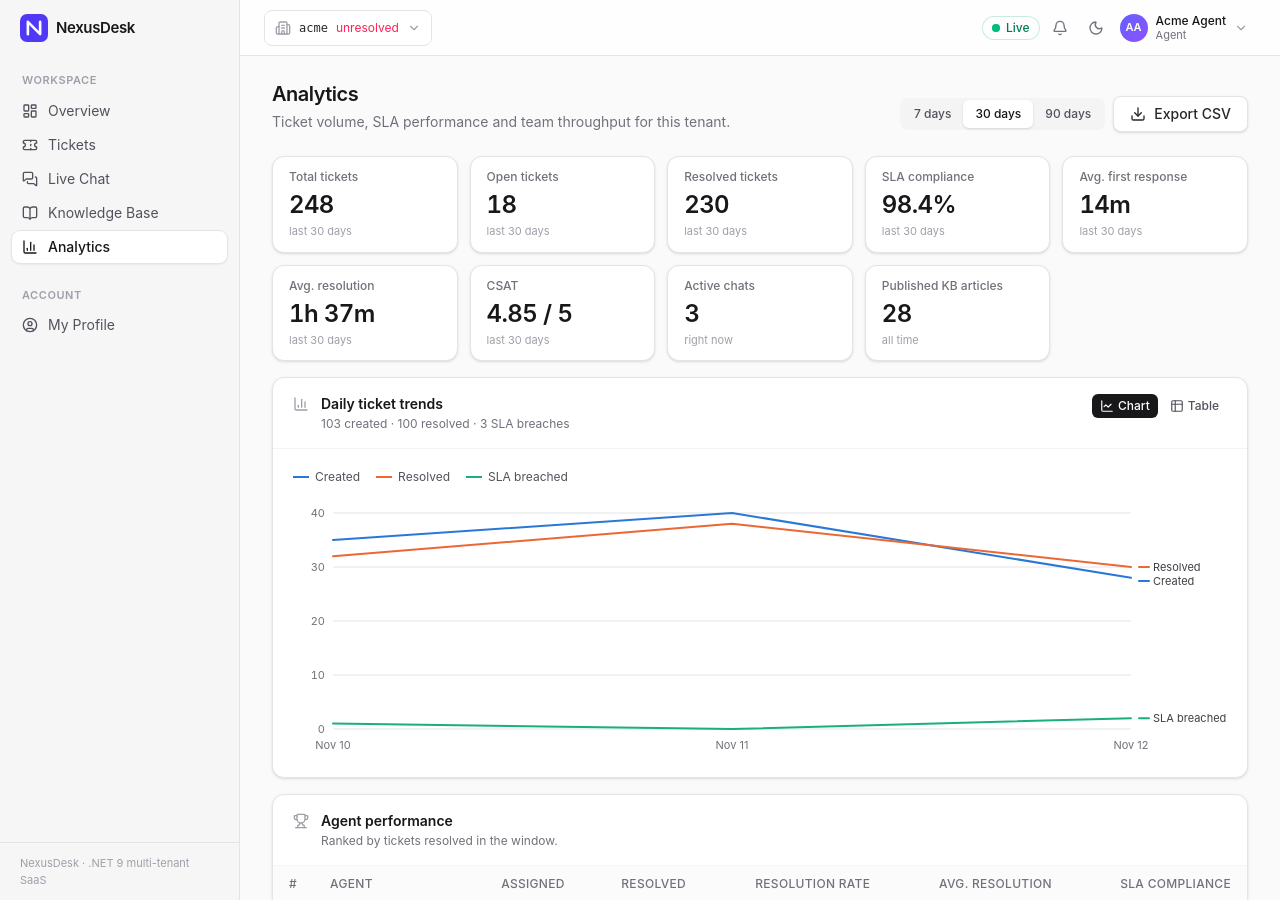
Test: Analytics dashboard › draws the daily trend chart with legend, crosshair tooltip and a table view
This screenshot has width=1280, height=900.
Expected: the text "103 created · 100 resolved · 3 SLA breaches" is shown, [321,416,570,432]
Expected: the list item "Created" is shown, [293,469,360,485]
# Keyboard crosshair: → steps to the first day.
Press ArrowRight in the field labelled "Chart hover area", box [323,513,1141,729]
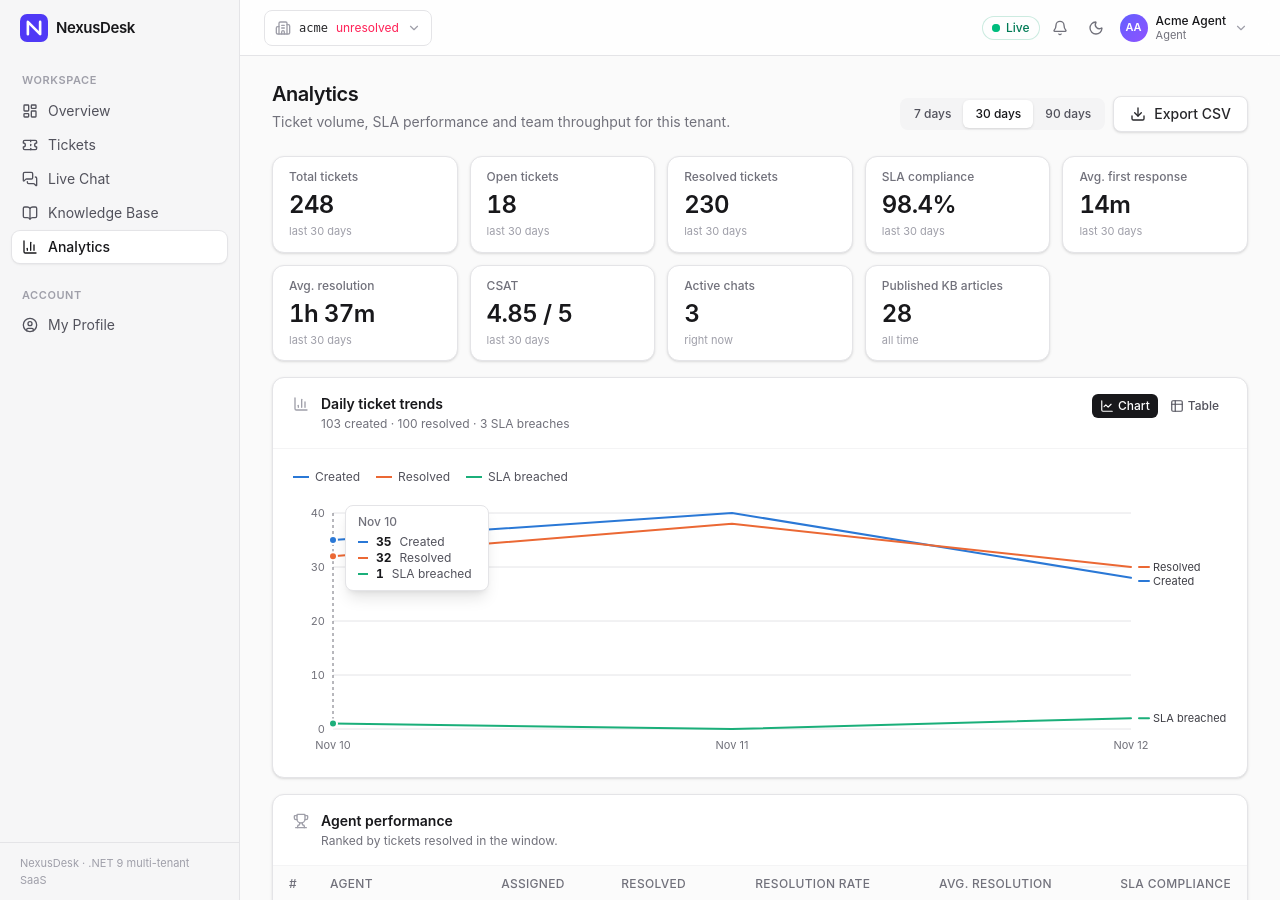
Press ArrowRight in the field labelled "Chart hover area", box [323,513,1141,729]
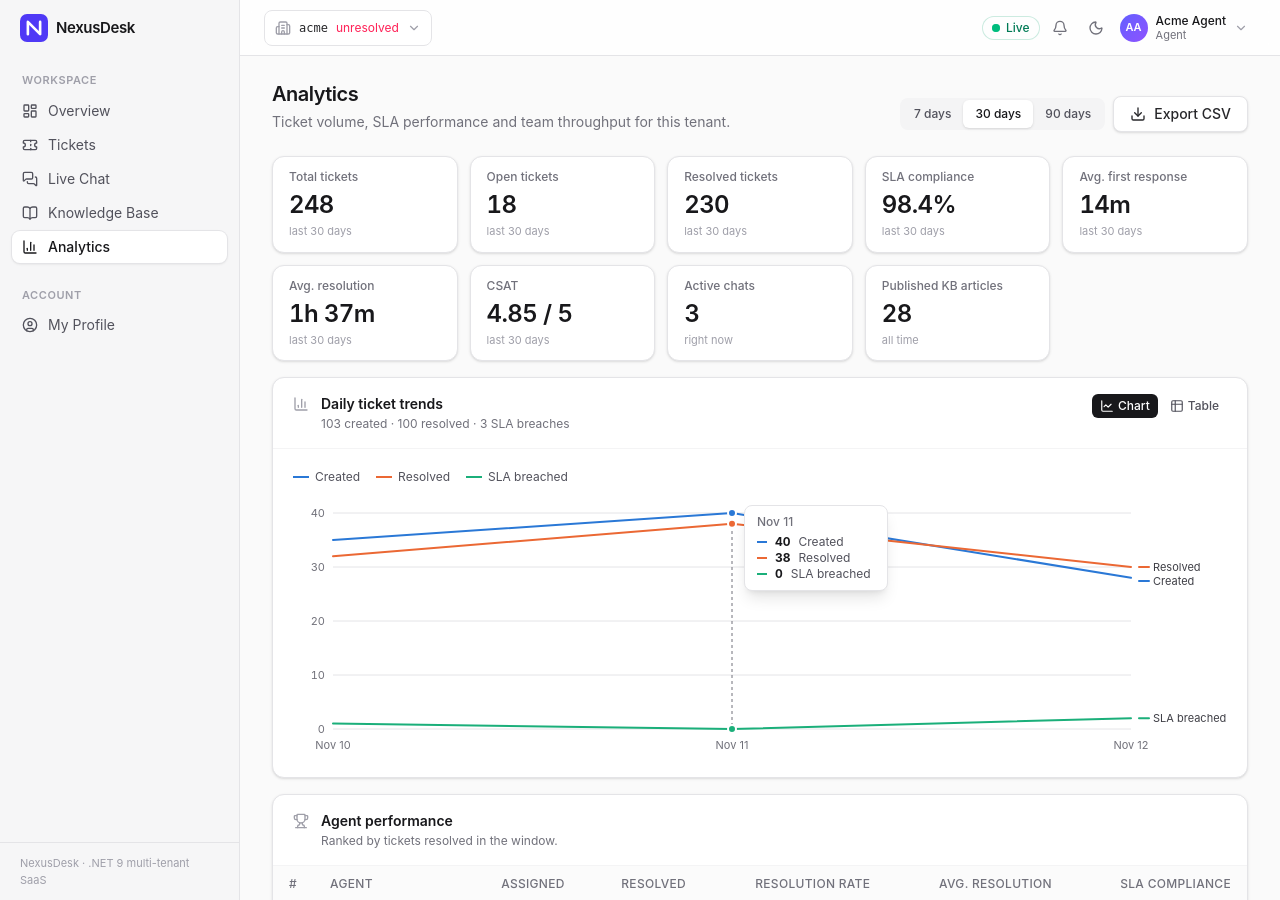
Now the message with test id "trend-tooltip" shows "Nov 11", box [757,514,793,529]
Now the message with test id "trend-tooltip" shows "40 Created", box [744,505,888,591]
Now the message with test id "trend-tooltip" shows "38 Resolved", box [744,505,888,591]
Click the button "Table": (1194, 406) [1162,394,1227,418]
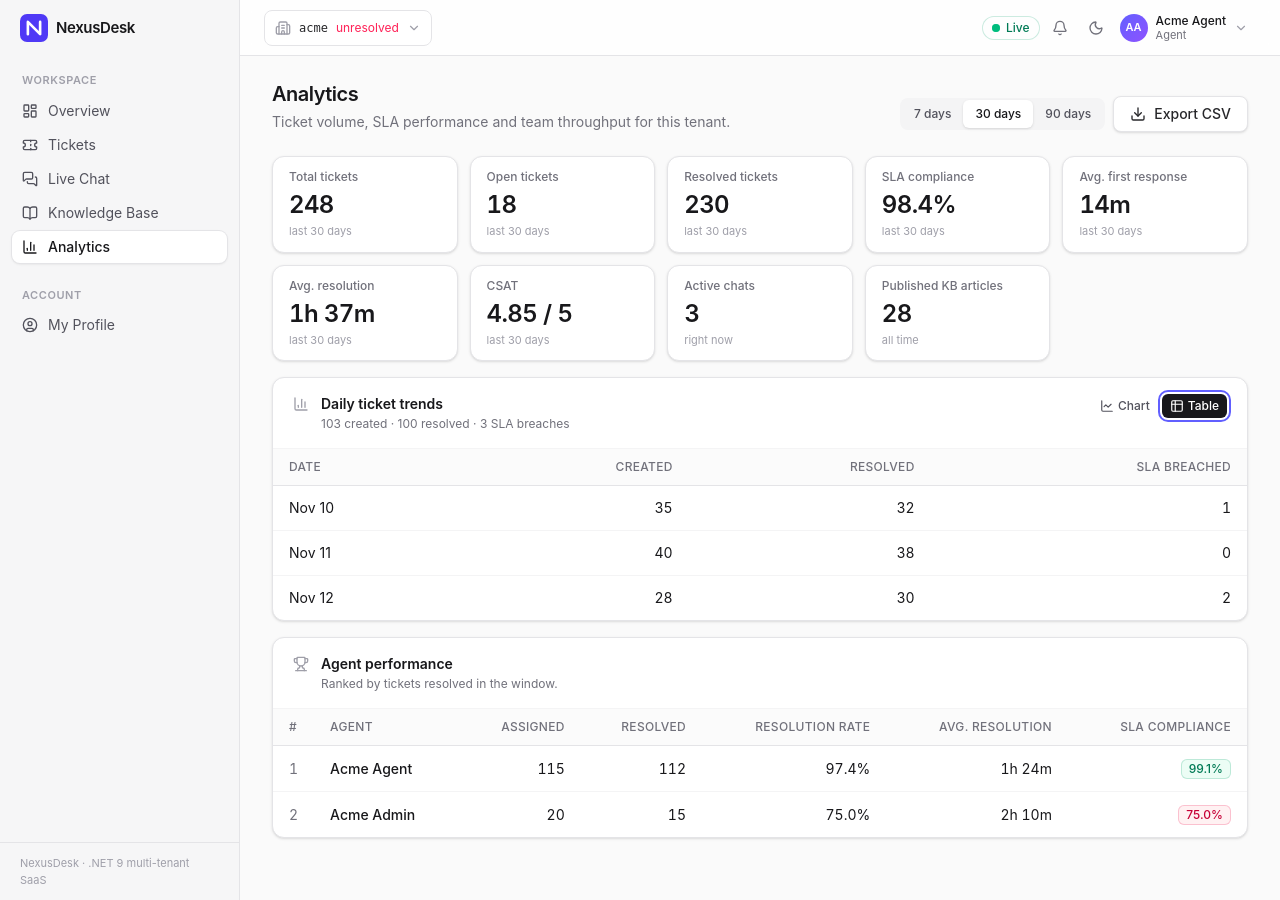
Now the cells read "Nov 12", "28", "30", "2", in this order, box [273,576,466,620]; [466,576,689,620]; [689,576,931,620]; [931,576,1247,620]
